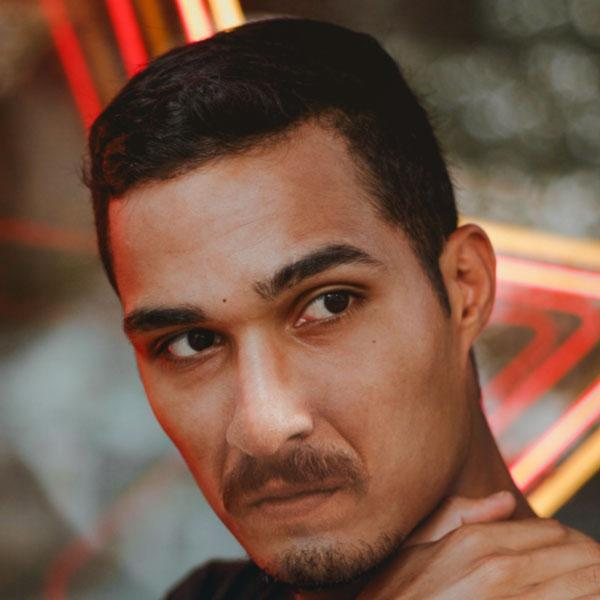Eyes: (276, 267, 379, 347), (142, 315, 236, 376)
